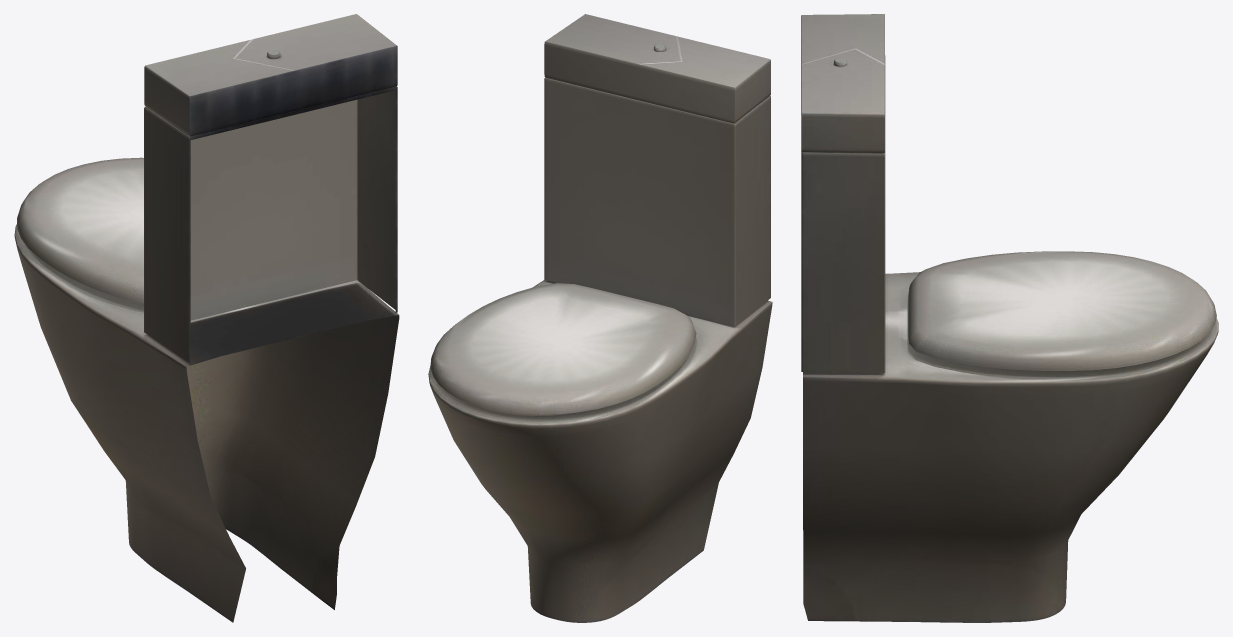
Rendered from 2014_WSJ_JJ_06.FBX.
The picture shows the model from 3 angles, left to right: view 1: azimuth 30°, elevation 25°; view 2: azimuth 150°, elevation 25°; view 3: azimuth 270°, elevation 25°; orthographic projection. The views are drawn at different scales.
Parts seen in each view (by area): view 1: 2014_WSJ_JJ_06; view 2: 2014_WSJ_JJ_06; view 3: 2014_WSJ_JJ_06.
Boxes of the visible parts, <box> form: 2014_WSJ_JJ_06: <box>14,14,399,622</box>; 2014_WSJ_JJ_06: <box>428,14,772,622</box>; 2014_WSJ_JJ_06: <box>801,14,1218,622</box>.
Bounding box in the file's own units: 0.3971 × 0.8811 × 0.6174.
